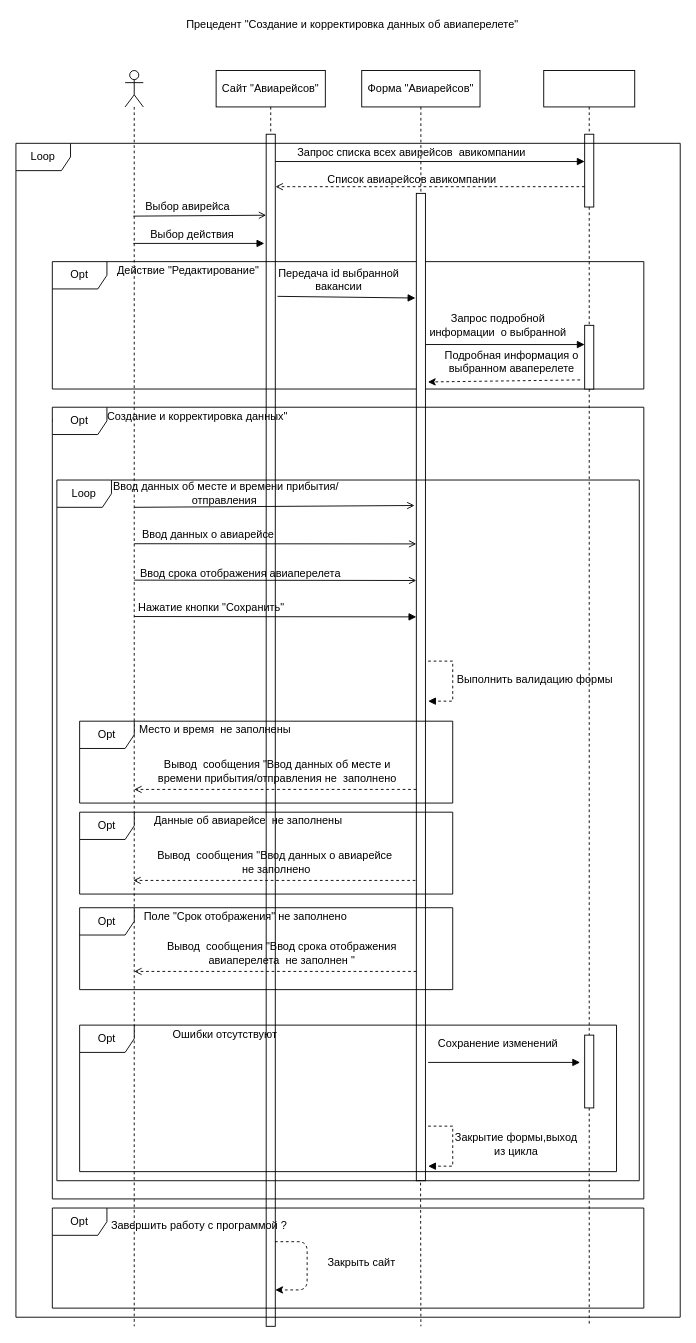
Image size: 696x1343. Some labels were removed from this diagram. The shapes that lost their labels are listed below. From the top down, each one's box as (x1, y1, x2, y2) in pixels, then its label:
(124, 70, 143, 107): Системный администратор
(543, 70, 635, 107): База данных
